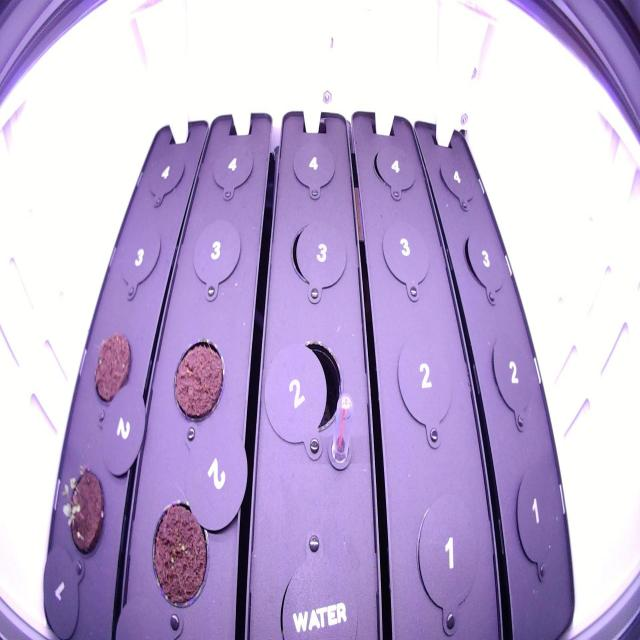empty_pod: (406, 490, 484, 610), (274, 334, 346, 438), (391, 330, 461, 436), (510, 458, 563, 572), (489, 326, 542, 417), (284, 216, 348, 291), (377, 212, 435, 292), (189, 216, 243, 299), (114, 218, 162, 307), (458, 221, 512, 300), (285, 130, 341, 198), (208, 134, 258, 209), (432, 144, 481, 213), (365, 140, 419, 199), (143, 143, 186, 210)
germination: (54, 450, 114, 566)
pod: (144, 488, 216, 619), (165, 328, 227, 431), (89, 325, 136, 411)
